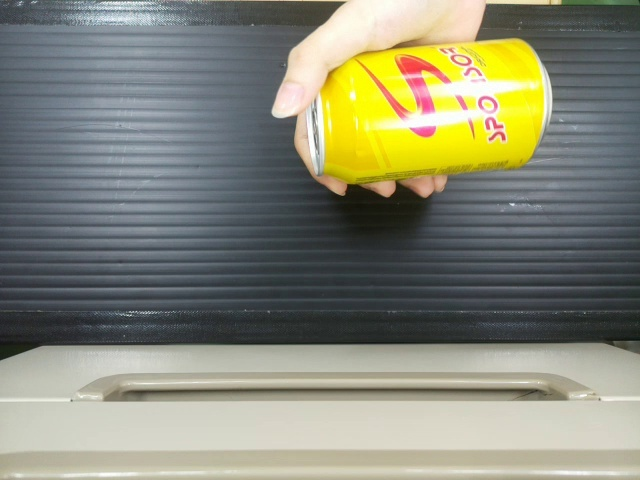can: (307, 47, 552, 171)
